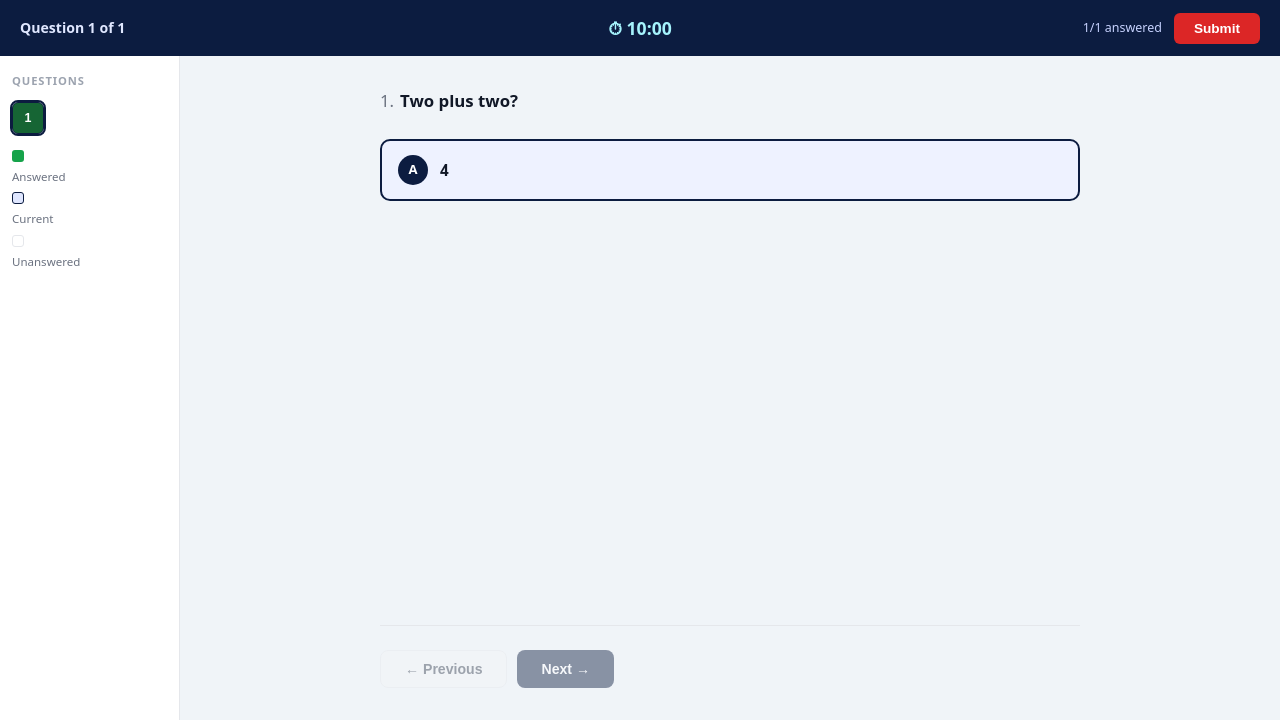
Test: ExamRoom confirms submission and displays the returned score
Click the button "Submit" at (1217, 28), box [1174, 12, 1260, 44]
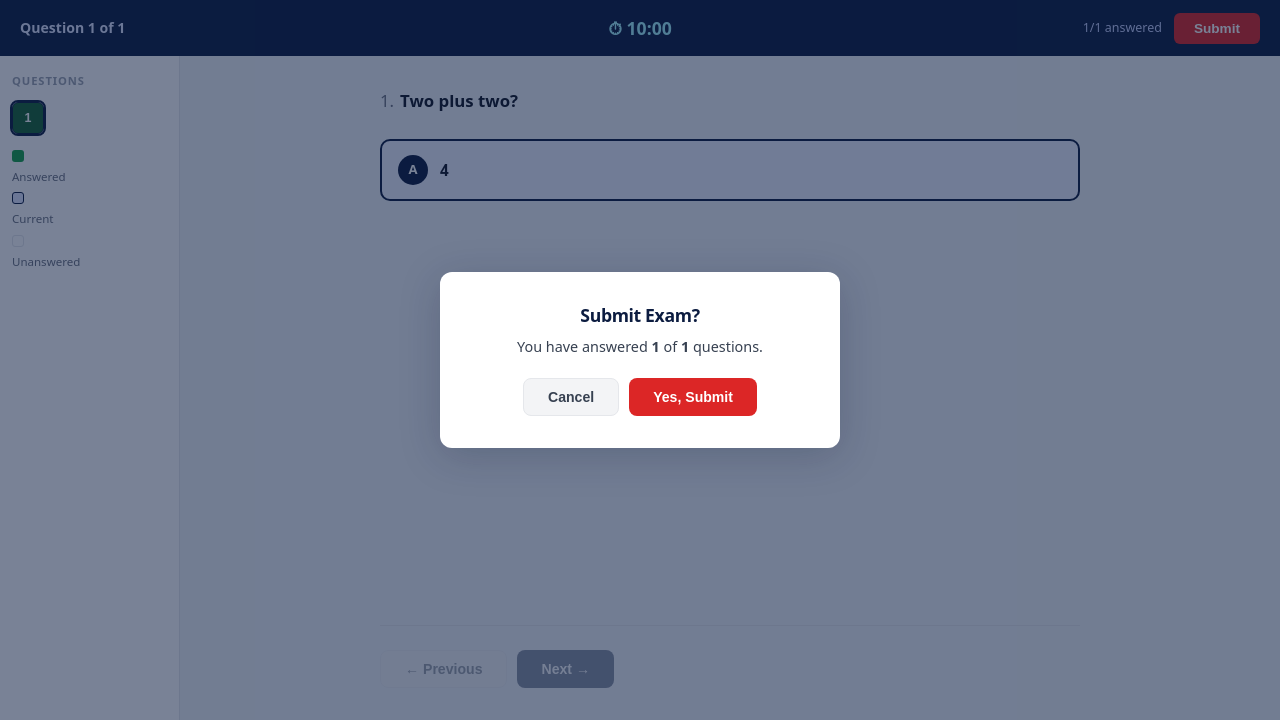
Now the heading "Submit Exam?" is shown, box [580, 303, 700, 327]
Click the button "Yes, Submit" at (693, 397), box [629, 378, 757, 416]
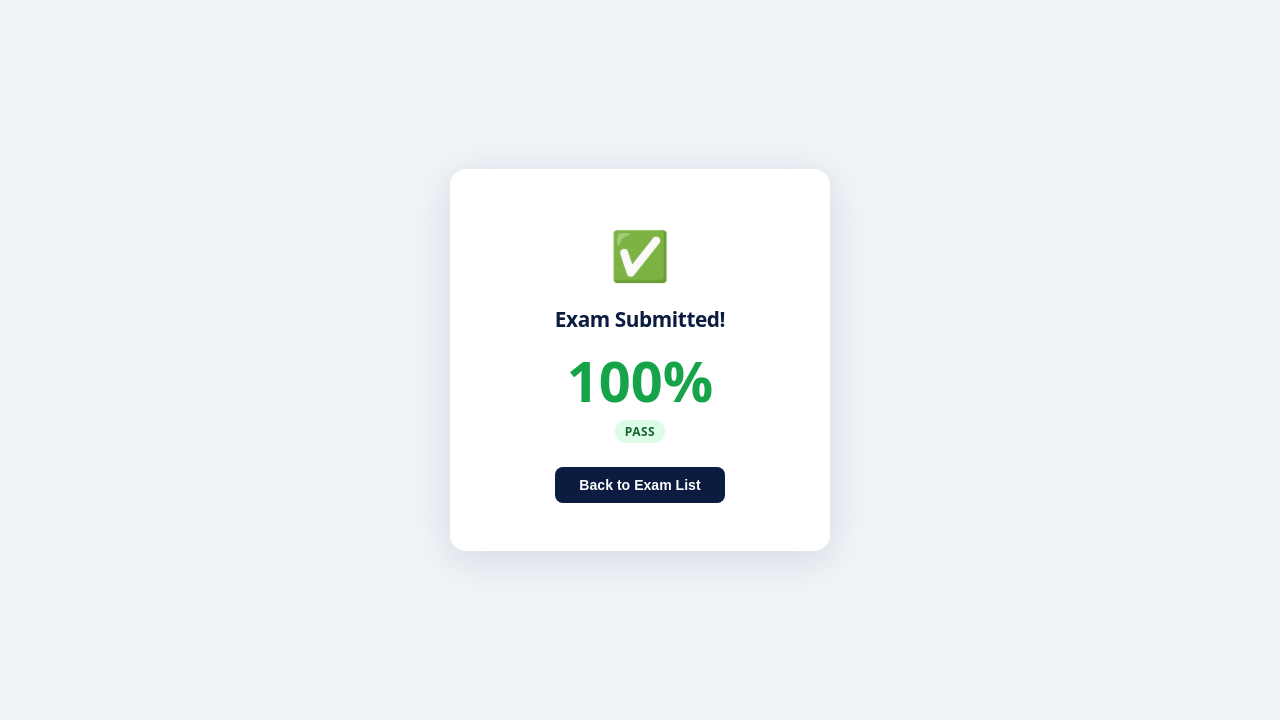
Now the heading "Exam Submitted!" is shown, box [555, 305, 725, 333]
Now the text "100%" is shown, box [567, 342, 713, 418]
